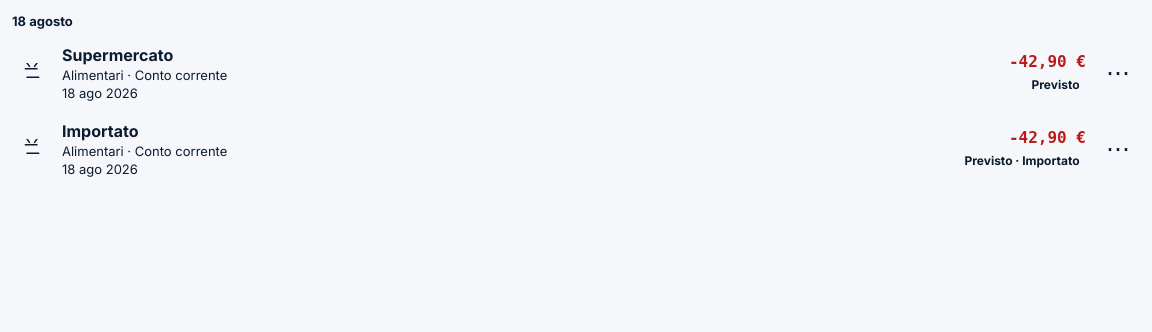
Test: TransactionList › exposes edit for imported rows and only renders checkboxes in selection mode
Click the button named "Azioni per Importato". click: (1118, 149)
box: [1096,127,1140,171]
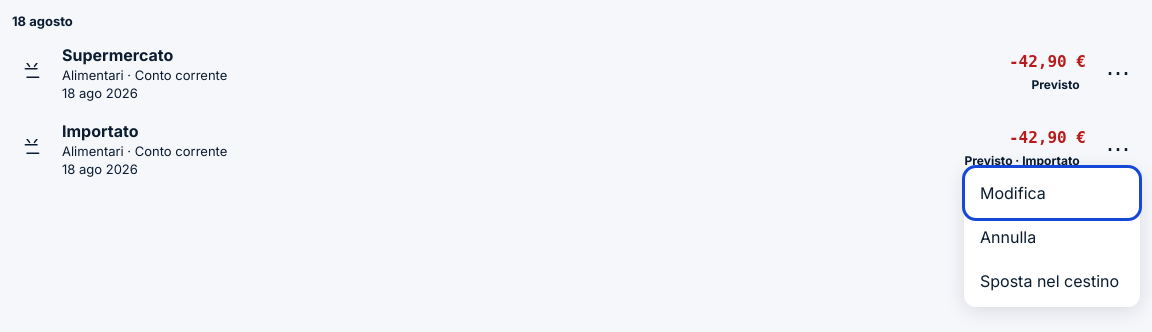
Expected: the menu item "Modifica" is shown, [968,171,1136,215]
